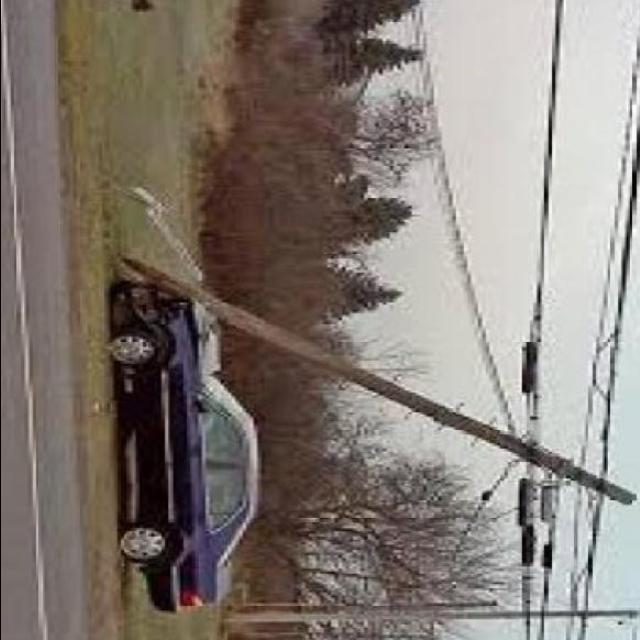accident: (93, 265, 271, 623)
